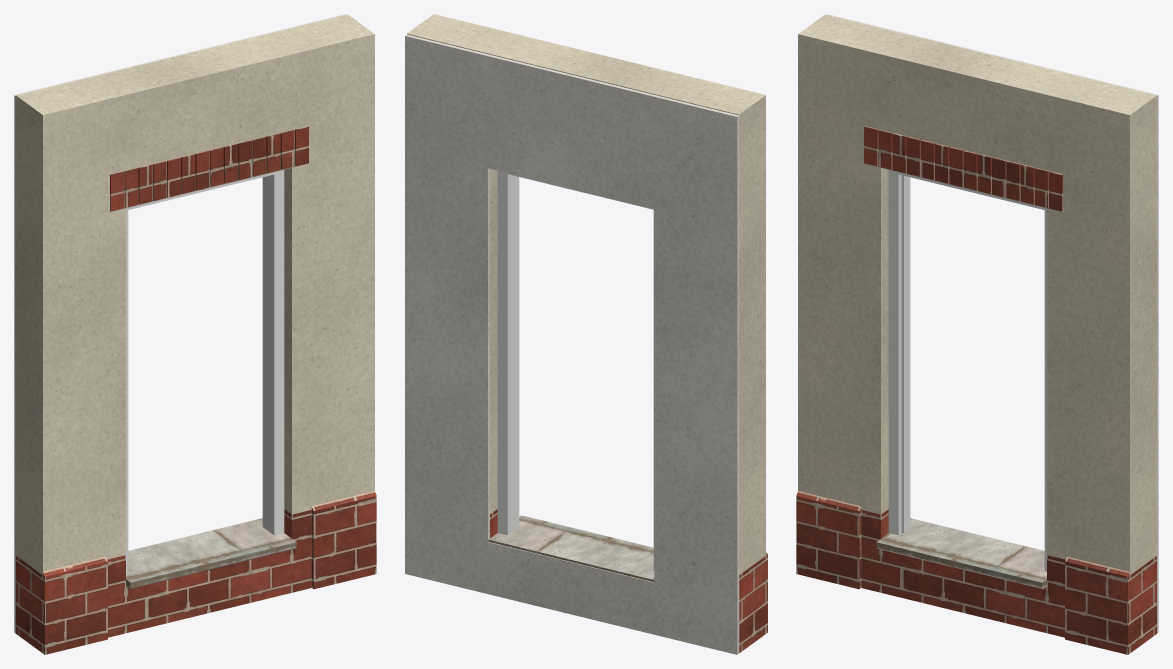
The model's file is w_g_bdoor.glb.
3 views of the same model, side by side, from view 1: azimuth 30°, elevation 25°; view 2: azimuth 150°, elevation 25°; view 3: azimuth 330°, elevation 25° (orthographic).
Visible parts, largest first — view 1: w_g_bdoor_render, w_g_bdoor_brick, w_g_bdoor_frame, w_g_bdoor_cill, w_g_bdoor_plaster; view 2: w_g_bdoor_plaster, w_g_bdoor_render, w_g_bdoor_frame, w_g_bdoor_cill, w_g_bdoor_brick; view 3: w_g_bdoor_render, w_g_bdoor_brick, w_g_bdoor_frame, w_g_bdoor_cill, w_g_bdoor_plaster.
Part boxes in pixels (<box>): w_g_bdoor_render: <box>16,14,374,574</box>; w_g_bdoor_brick: <box>16,126,376,654</box>; w_g_bdoor_frame: <box>126,170,284,571</box>; w_g_bdoor_cill: <box>109,163,309,588</box>; w_g_bdoor_plaster: <box>14,14,346,633</box>; w_g_bdoor_plaster: <box>405,34,739,654</box>; w_g_bdoor_render: <box>407,14,765,574</box>; w_g_bdoor_frame: <box>497,171,654,570</box>; w_g_bdoor_cill: <box>488,515,654,581</box>; w_g_bdoor_brick: <box>490,509,767,652</box>; w_g_bdoor_render: <box>798,14,1156,574</box>; w_g_bdoor_brick: <box>796,126,1156,654</box>; w_g_bdoor_frame: <box>888,170,1046,571</box>; w_g_bdoor_cill: <box>863,163,1063,588</box>; w_g_bdoor_plaster: <box>826,14,1158,633</box>.
Bounding box in the file's own units: 2 × 3.1 × 0.35.
Materials: 5 (4 with a texture image).
